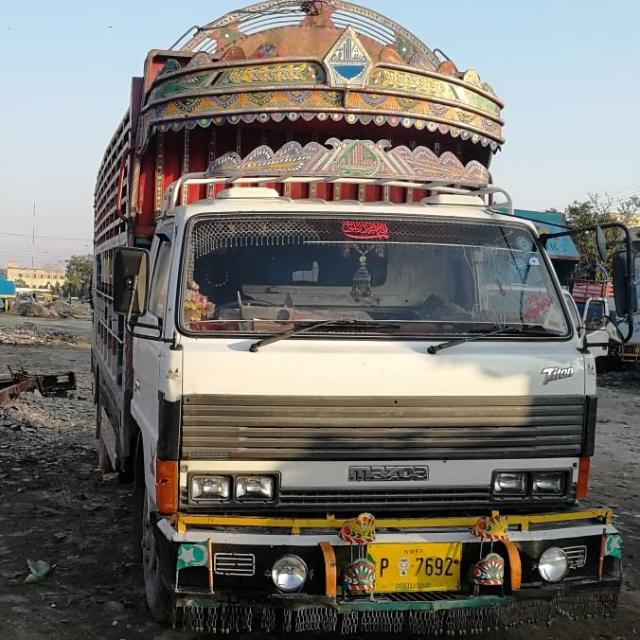plate: (362, 542, 468, 588)
